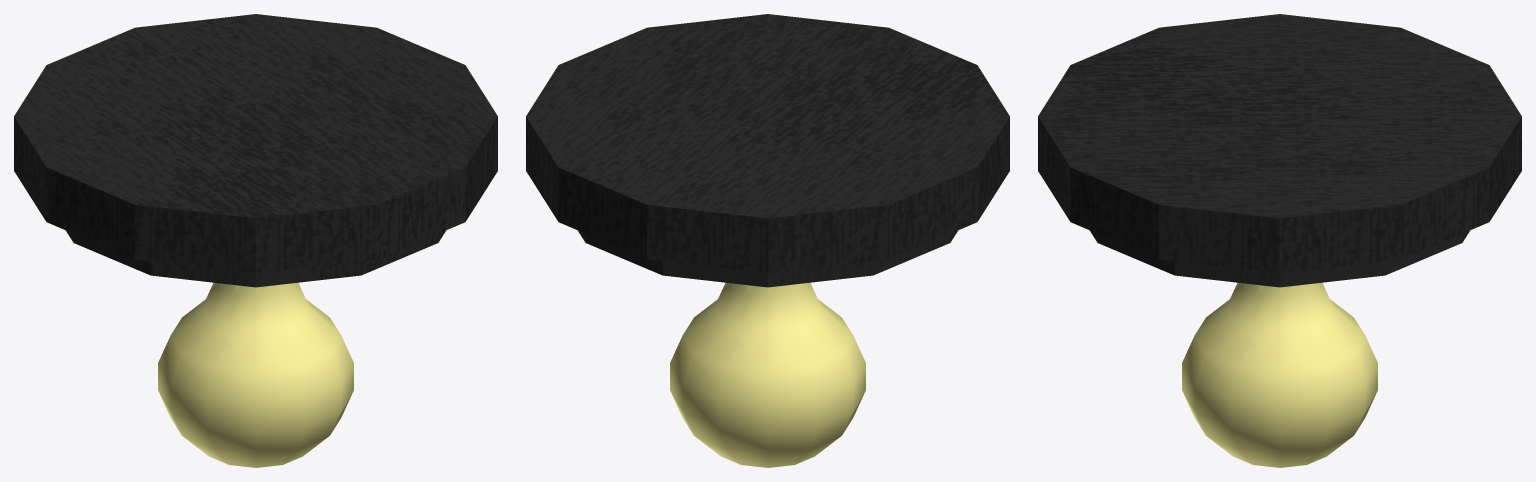
The model's file is Horror_Final_Lights.fbx.
3 renders of one model, left to right at view 1: azimuth 30°, elevation 25°; view 2: azimuth 150°, elevation 25°; view 3: azimuth 270°, elevation 25°, orthographic.
Visible parts, largest first — view 1: pCylinder112; view 2: pCylinder112; view 3: pCylinder112.
Part boxes in pixels (<box>): pCylinder112: <box>14,14,497,467</box>; pCylinder112: <box>526,14,1009,467</box>; pCylinder112: <box>1038,14,1521,467</box>.
Bounding box in the file's own units: 80 × 62 × 80.
1 material, 1 textured.
